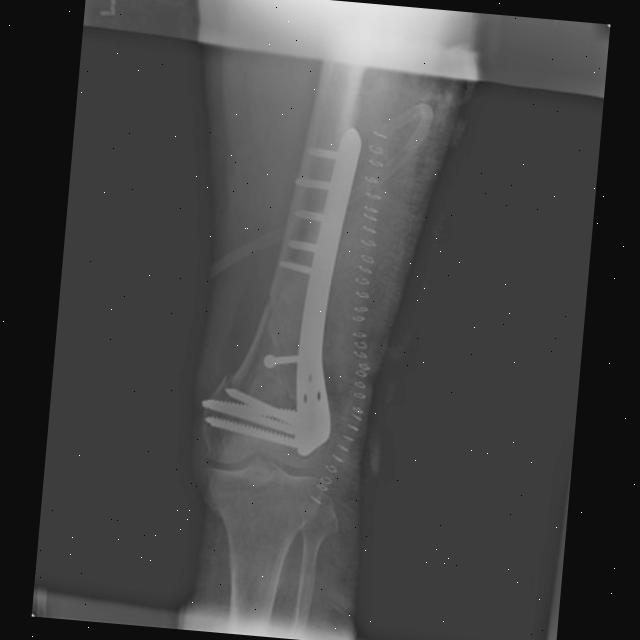Fracture: (213, 284, 295, 412)
